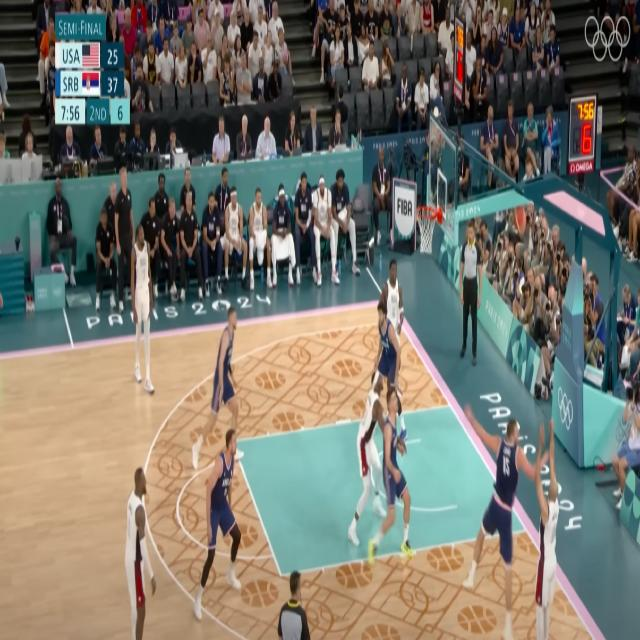basketball: (514, 206, 527, 235)
hoop: (414, 206, 438, 253)
